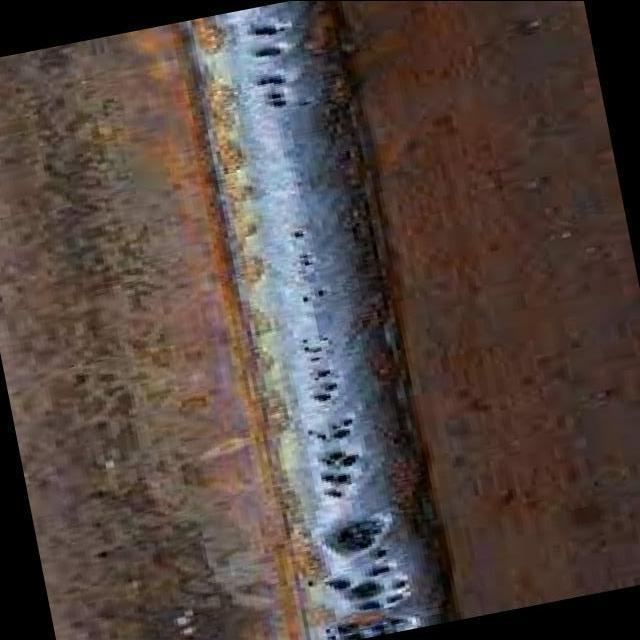defect: (305, 412, 364, 504), (323, 562, 413, 613), (317, 610, 423, 640), (323, 514, 395, 557), (246, 72, 323, 111), (240, 13, 290, 63), (300, 367, 347, 404), (289, 333, 343, 364), (297, 284, 330, 306), (295, 249, 322, 270), (279, 223, 311, 240)
